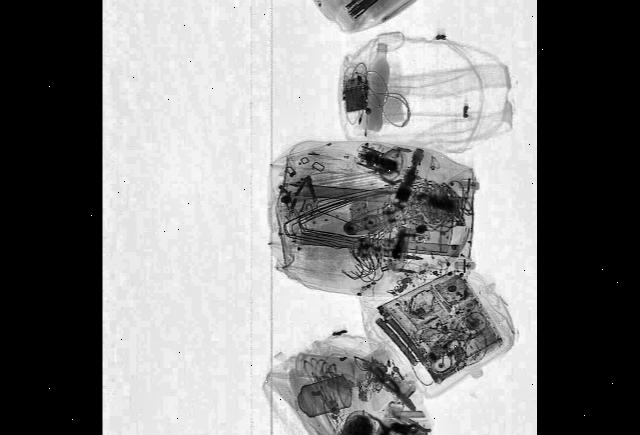Pliers: (366, 354, 419, 417)
